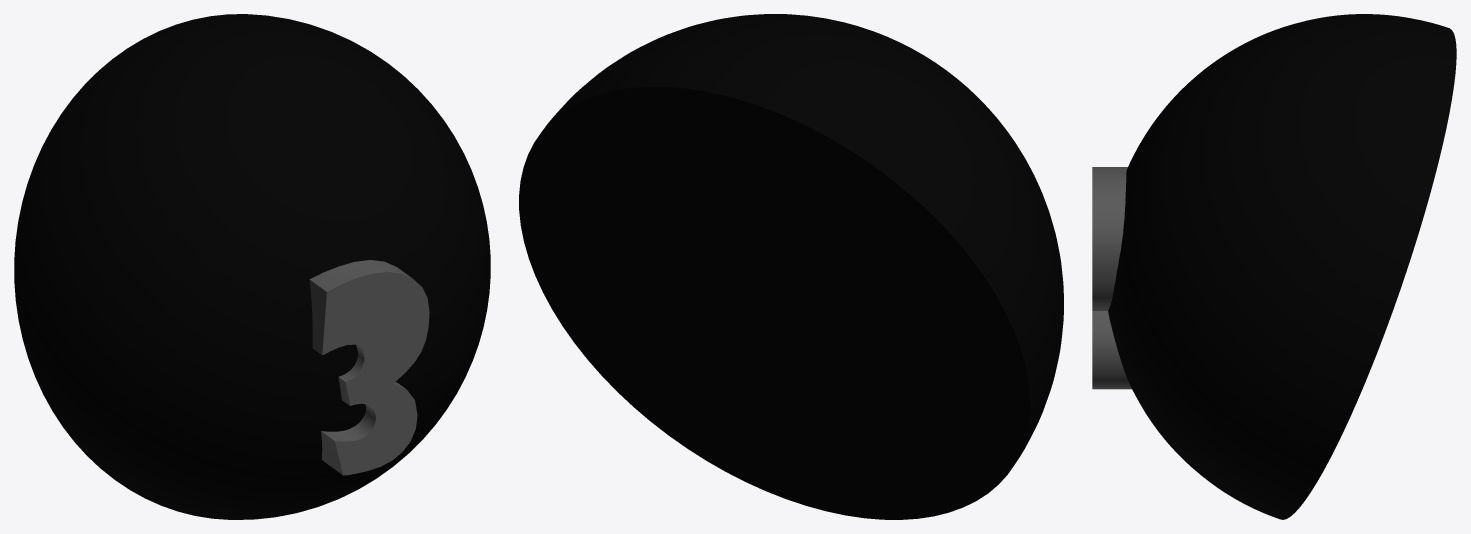
File: button3.fbx
3 renders of one model, left to right at view 1: azimuth 30°, elevation 25°; view 2: azimuth 150°, elevation 25°; view 3: azimuth 270°, elevation 25°, orthographic. The views are drawn at different scales.
Visible parts, largest first — view 1: root, node_id112; view 2: root; view 3: root, node_id112.
Boxes of the visible parts, x1,y1,x2,y2 form: root: [14, 14, 490, 519]; node_id112: [309, 260, 429, 475]; root: [519, 14, 1063, 519]; root: [1108, 14, 1456, 519]; node_id112: [1092, 167, 1131, 389].
Bounding box in the file's own units: 0.2 × 0.1936 × 0.1402.
2 materials, 1 textured.
